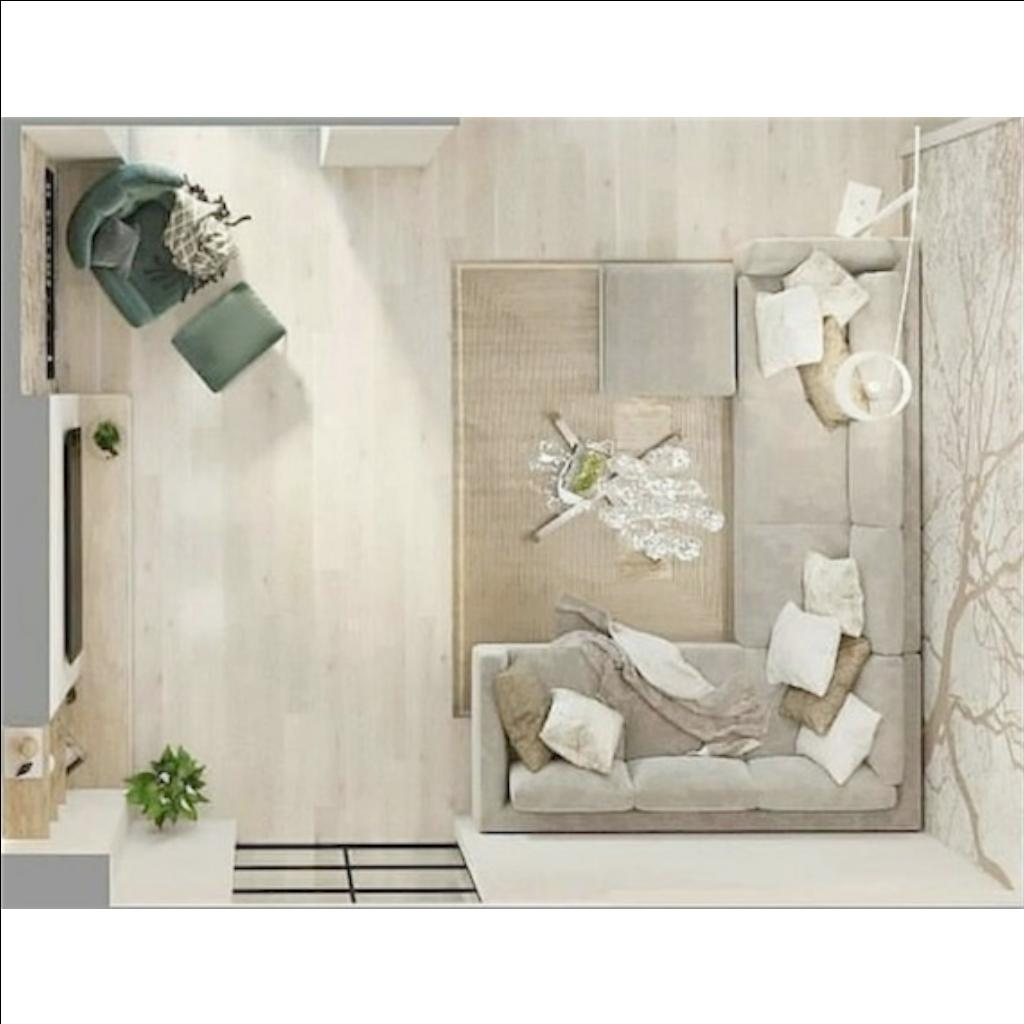TV stand: (2, 392, 80, 722)
chair: (68, 163, 230, 327)
fireplace: (3, 136, 57, 386)
floor lamp: (832, 176, 894, 228)
floor plant: (122, 740, 212, 830)
ottoman: (598, 262, 732, 394)
rug: (448, 260, 810, 722)
shelves: (3, 727, 79, 837)
sofa: (474, 648, 922, 834), (737, 238, 919, 644)
window: (108, 124, 322, 140)
